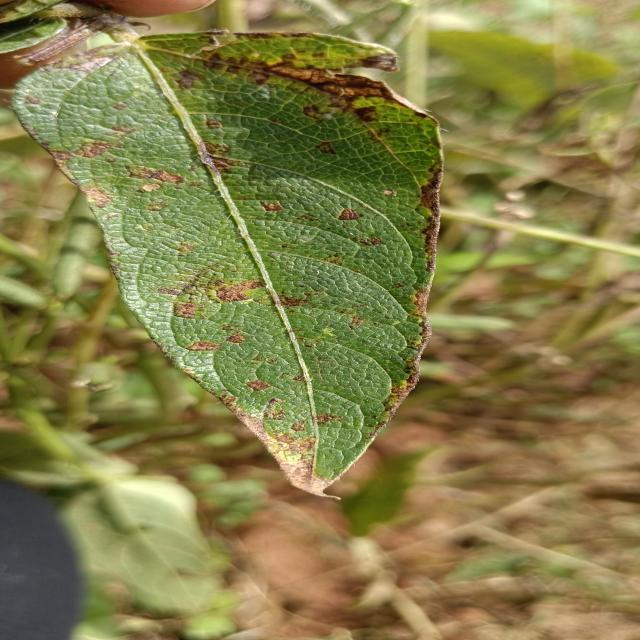Black gram_leaf spot: (0, 25, 456, 504)
